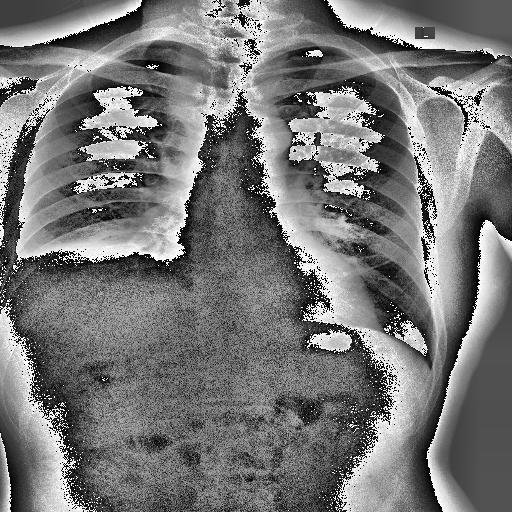10- Pleural effusion: (6, 230, 192, 320), (14, 244, 186, 318)
9- Other lesion: (6, 230, 192, 320), (16, 242, 188, 310)
